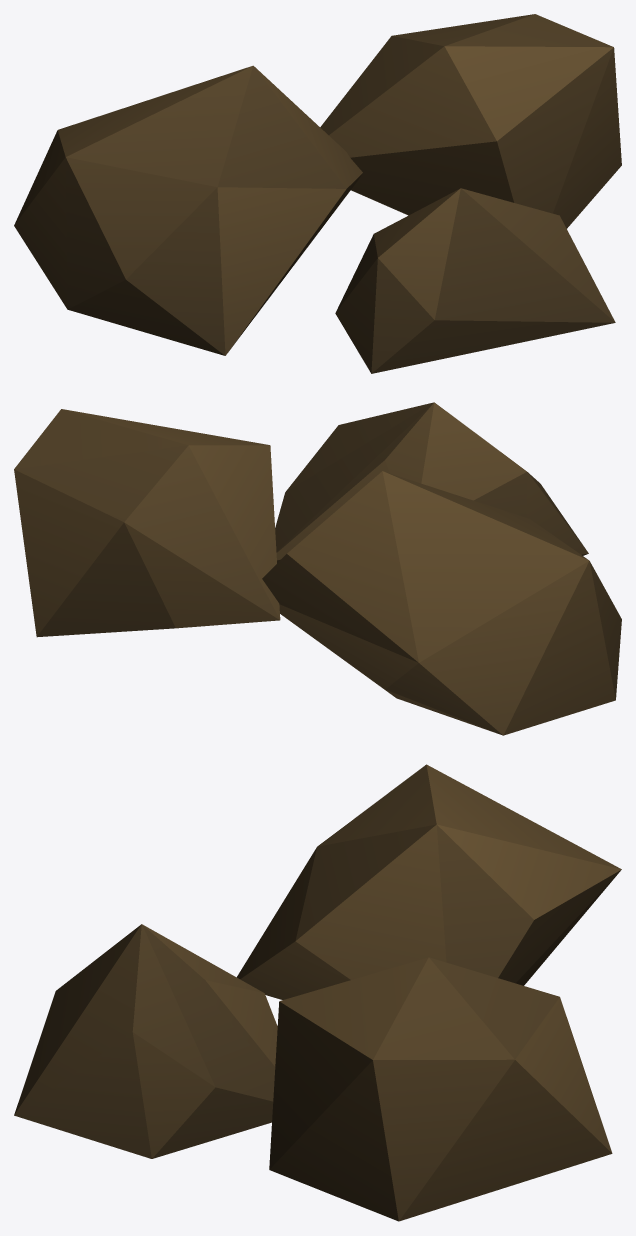
Rendered from stone.glb.
3 renders of one model, top to bottom at view 1: azimuth 30°, elevation 25°; view 2: azimuth 150°, elevation 25°; view 3: azimuth 270°, elevation 25°, orthographic. The views are drawn at different scales.
Parts seen in each view (by area): view 1: stone; view 2: stone; view 3: stone.
Boxes of the visible parts, left/top/right/bottom form: stone: left=14, top=14, right=621, bottom=373; stone: left=14, top=402, right=621, bottom=735; stone: left=14, top=764, right=621, bottom=1221.
Size of the model in its own units: 0.2648 by 0.091 by 0.2182.
